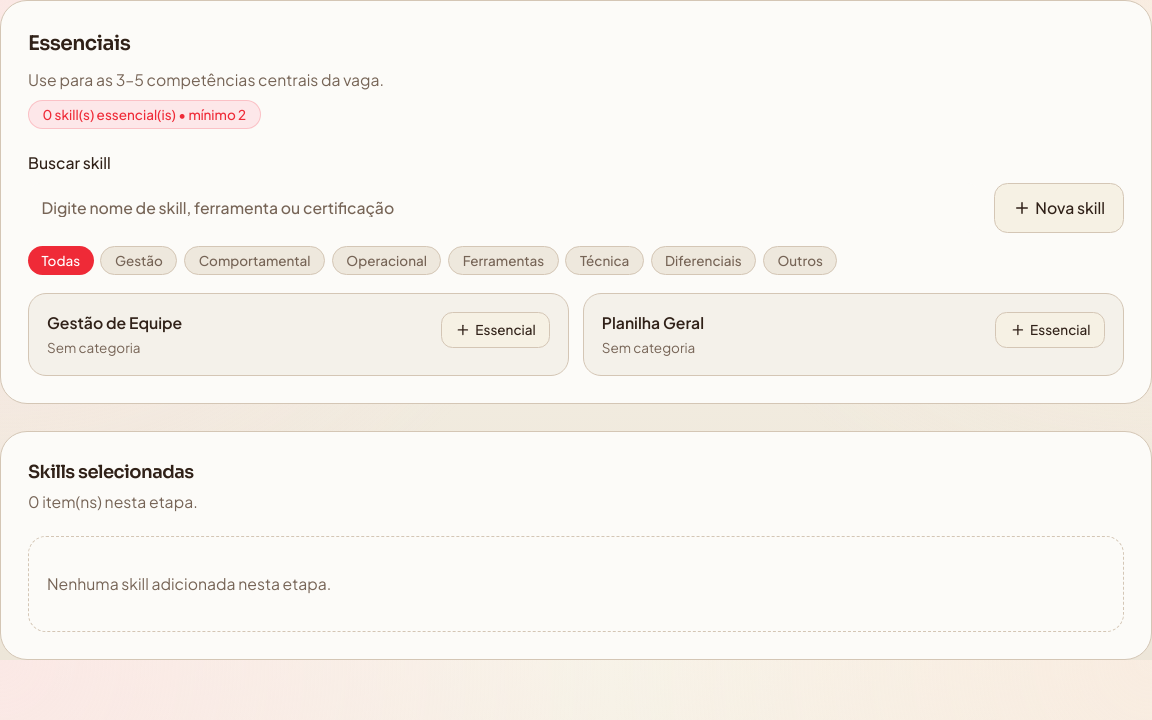
Test: job skill steps › chip Gestão usa keywords fortes, não classifica skills genéricas sem match
Click the button "Gestão". click: (139, 260)
box: [100, 246, 178, 275]
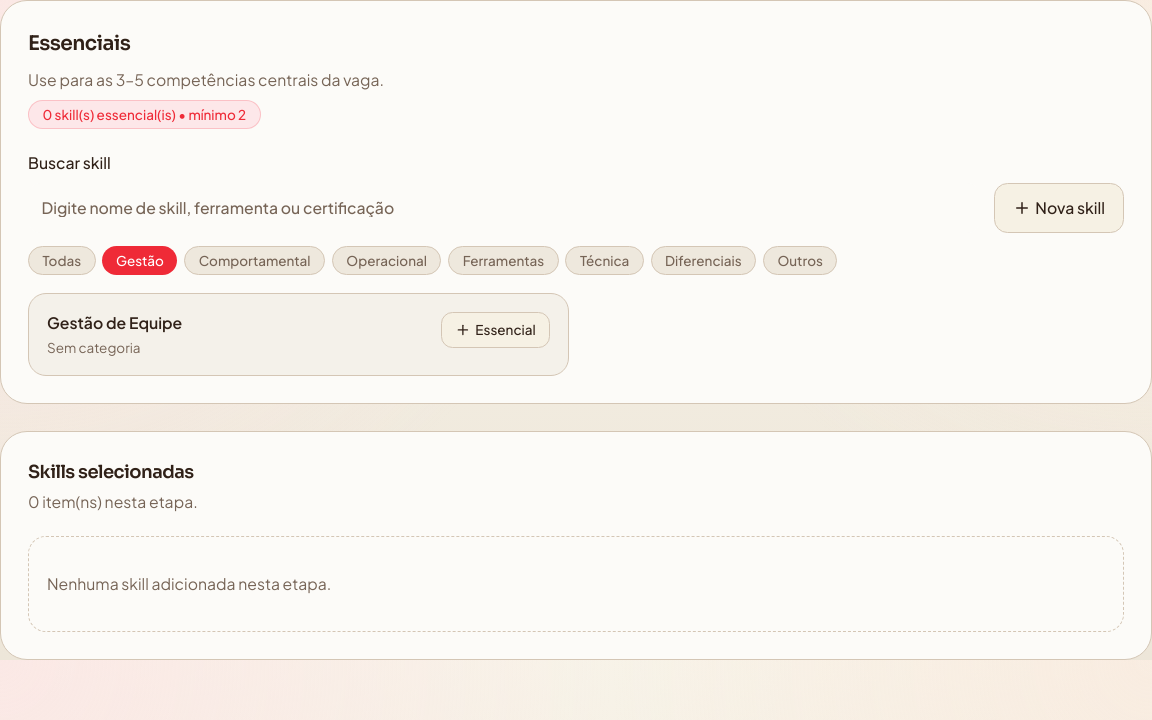
expect the text "Gestão de Equipe" is shown: met, box [47, 313, 182, 332]
expect the text "Planilha Geral" is gone: met
